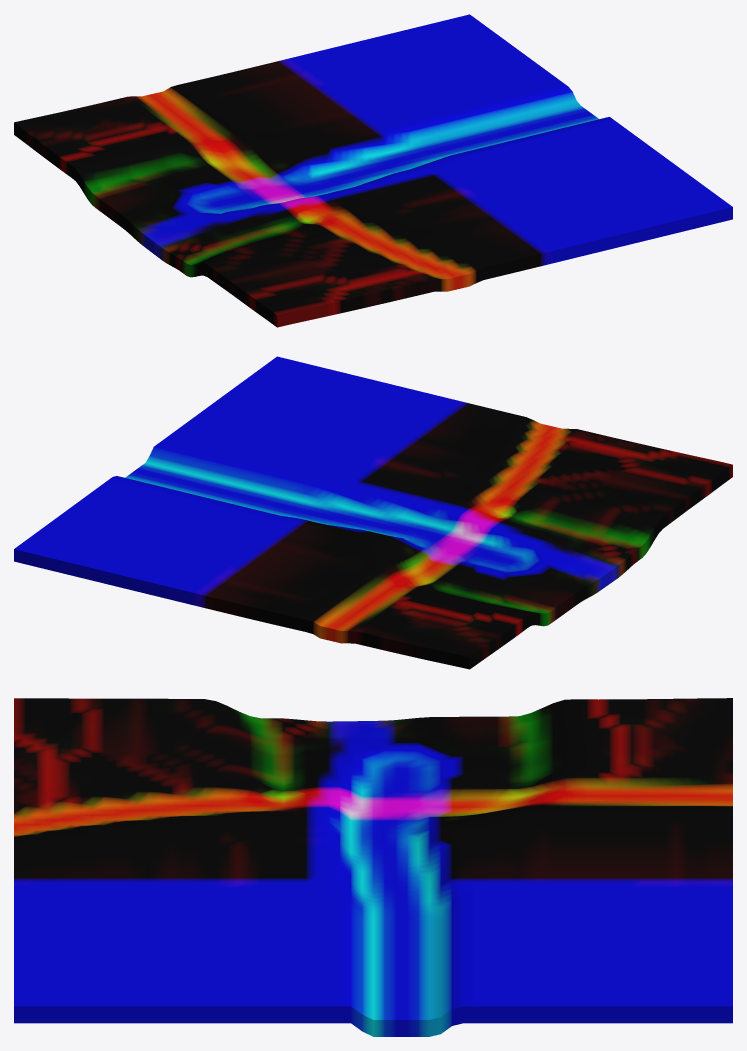
The model's file is Terrain_04_05.fbx.
The picture shows the model from 3 angles, top to bottom: view 1: azimuth 30°, elevation 25°; view 2: azimuth 150°, elevation 25°; view 3: azimuth 270°, elevation 25°; orthographic projection. The views are drawn at different scales.
Visible parts, largest first — view 1: Terrain_04_05_LOD0; view 2: Terrain_04_05_LOD0; view 3: Terrain_04_05_LOD0.
Boxes of the visible parts, x1,y1,x2,y2 form: Terrain_04_05_LOD0: (14,14,732,327); Terrain_04_05_LOD0: (14,356,732,669); Terrain_04_05_LOD0: (14,698,732,1036).
Size of what is drawn, in the model's own units: 384 by 23.83 by 384.
